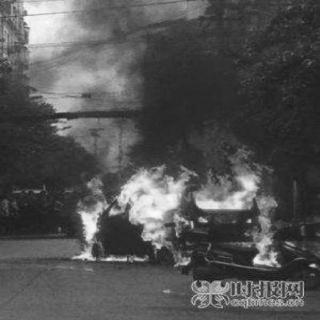Fire: (67, 125, 286, 273)
